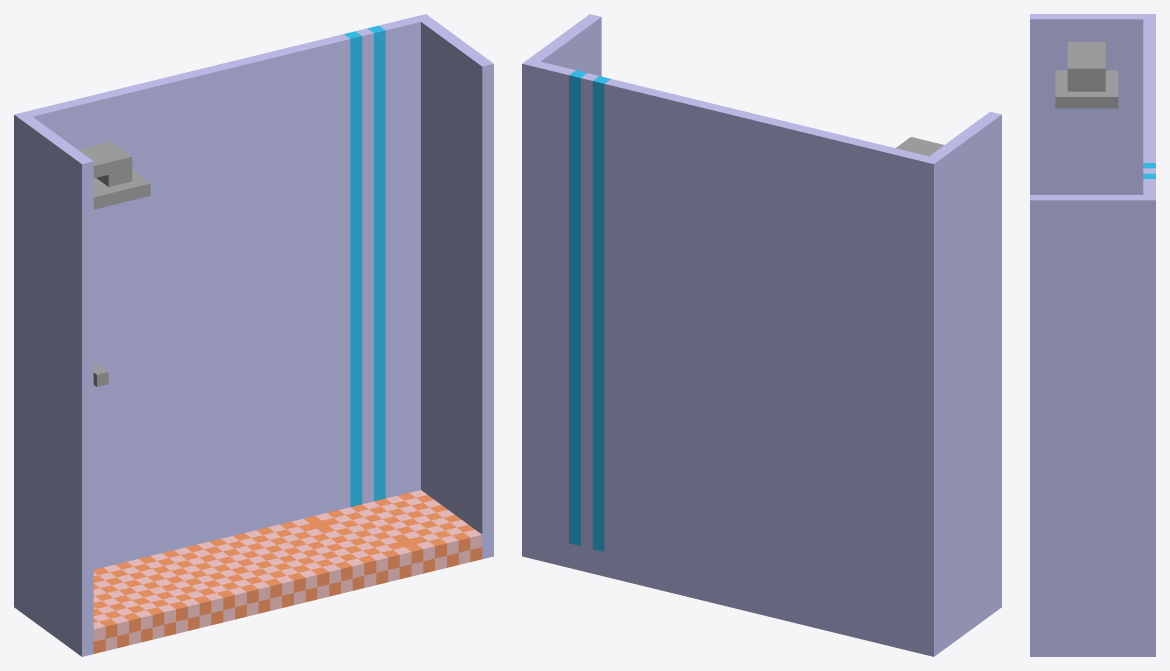
Rendered from adultshower.fbx.
3 views of the same model, side by side, from view 1: azimuth 30°, elevation 25°; view 2: azimuth 150°, elevation 25°; view 3: azimuth 270°, elevation 25° (orthographic). The views are drawn at different scales.
Visible parts, largest first — view 1: Object001; view 2: Object001; view 3: Object001.
Part boxes in pixels (x1=…): Object001: x1=14, y1=14, x2=493, y2=656; Object001: x1=522, y1=14, x2=1001, y2=656; Object001: x1=1030, y1=14, x2=1155, y2=656.
Size of the model in its own units: 3.5 by 4 by 1.
Materials: 1 (1 with a texture image).
